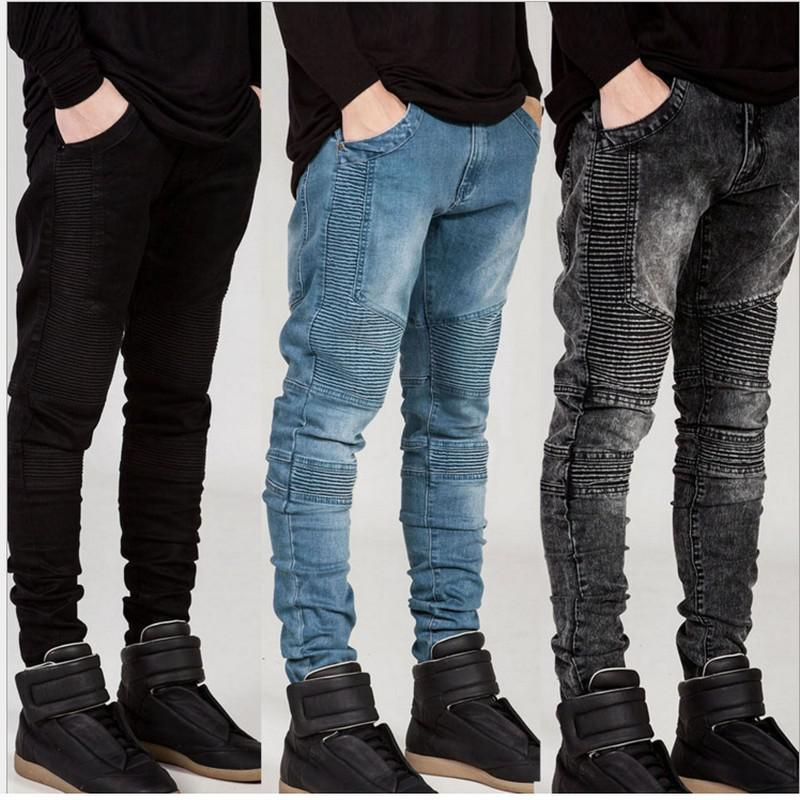jeans: (543, 88, 800, 721), (9, 99, 257, 713), (273, 117, 518, 688)
